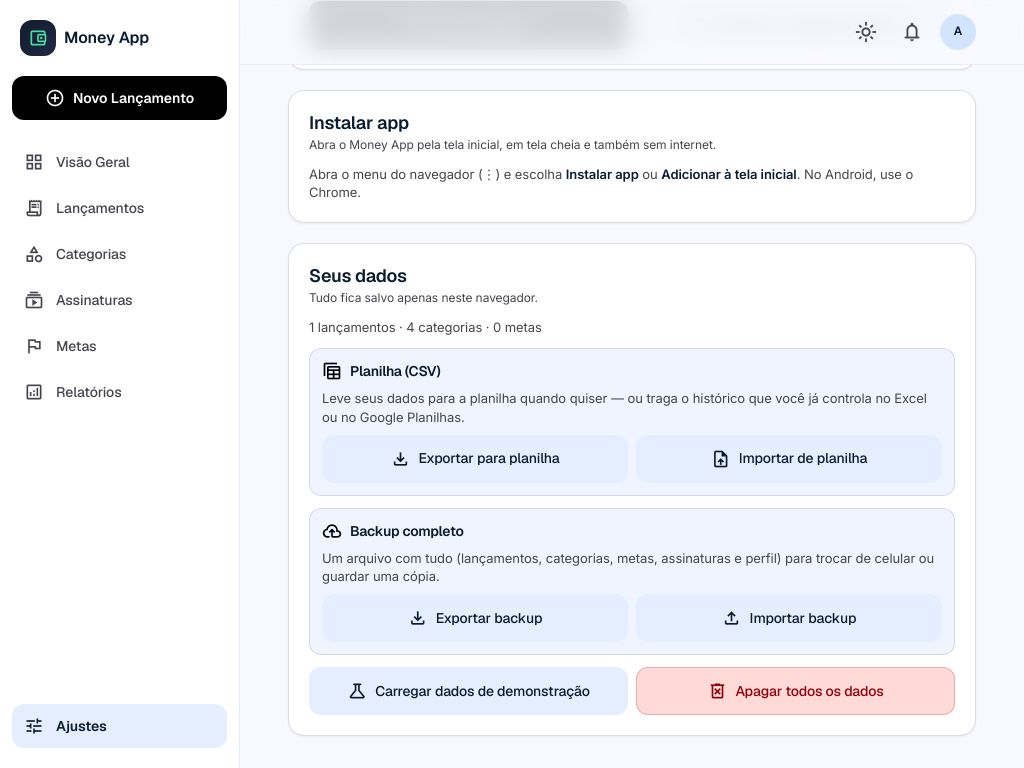
it: Ajustes: demonstração e renda mensal › cancelar a confirmação não altera os dados
(page scrolled)
Click the button "Carregar dados de demonstração": (468, 691) [309, 667, 628, 715]
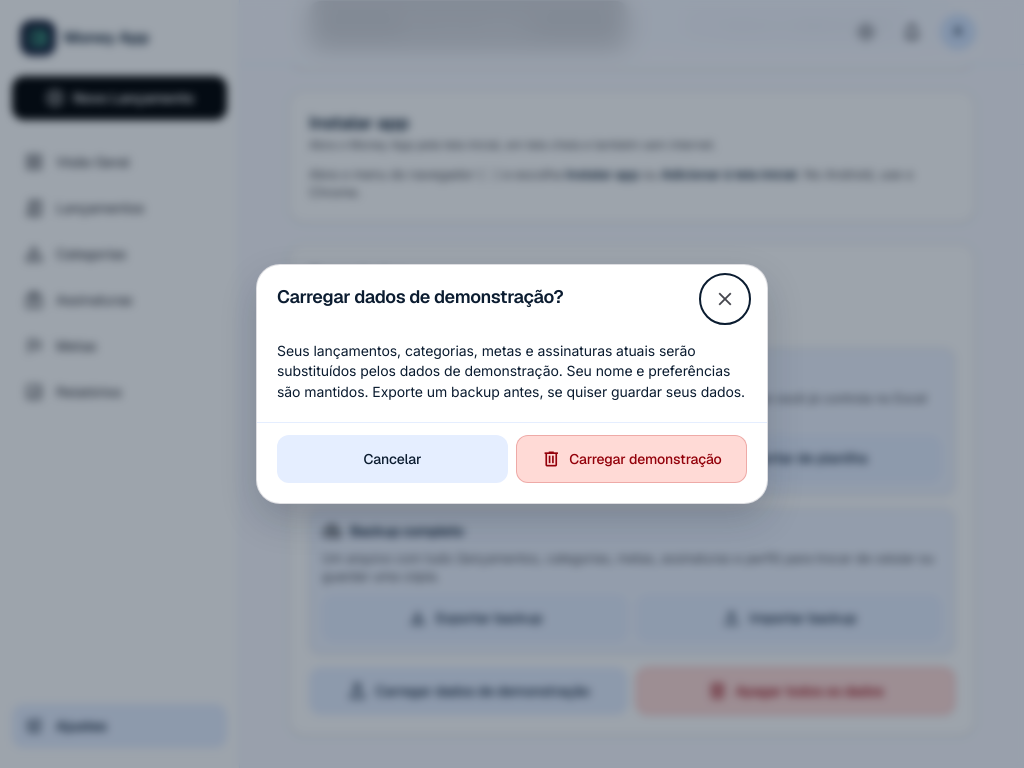
Click the button "Cancelar": (392, 458) [277, 434, 508, 482]
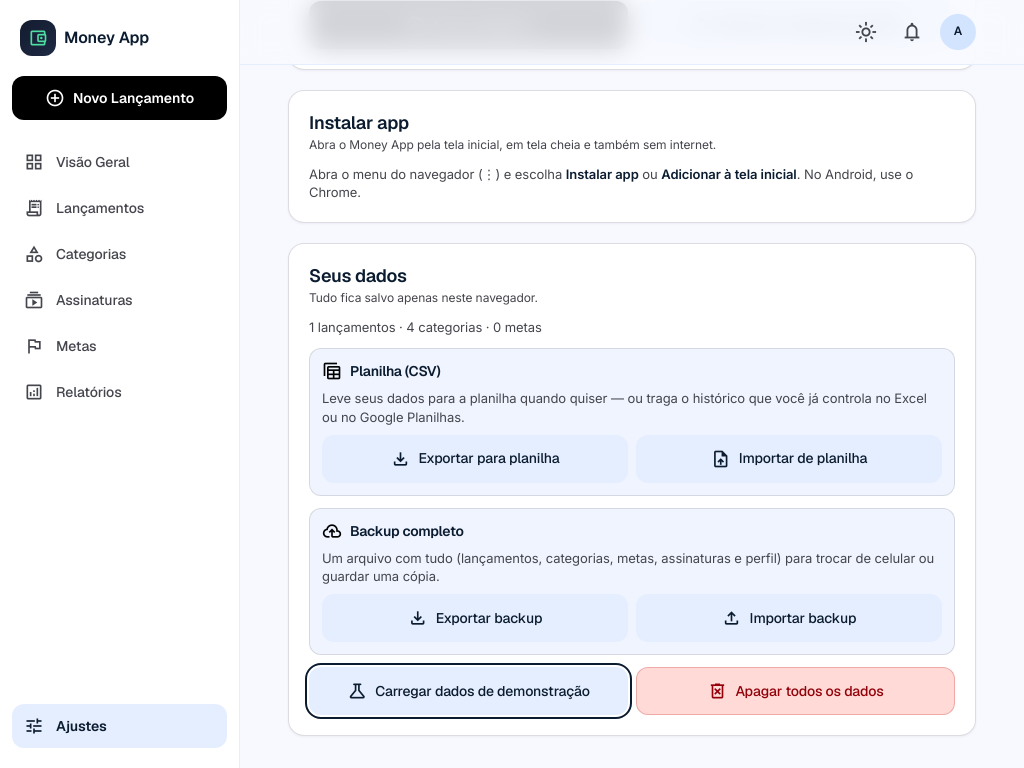
Result: the dialog is gone
